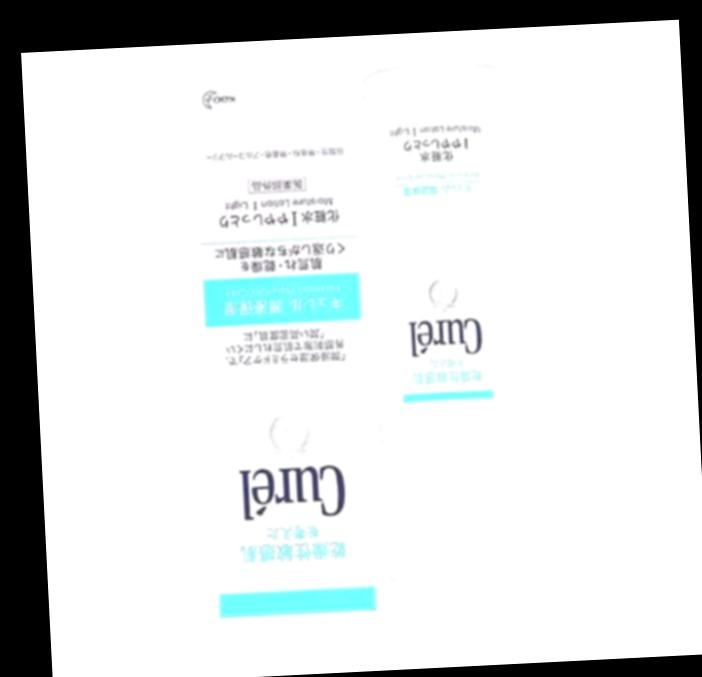cosmetic: (358, 75, 529, 583)
